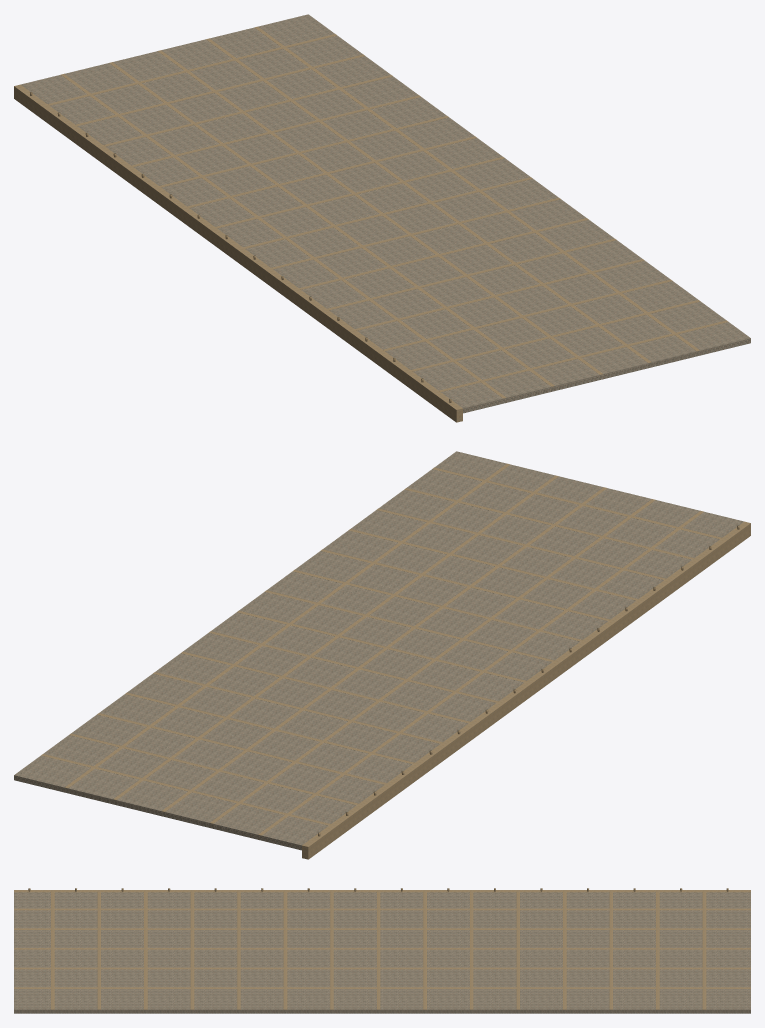
File: harbor_quay.glb
3 views of the same model, one above another, from view 1: azimuth 30°, elevation 25°; view 2: azimuth 150°, elevation 25°; view 3: azimuth 270°, elevation 25° (orthographic). The views are drawn at different scales.
Parts seen in each view (by area): view 1: harbor_quay; view 2: harbor_quay; view 3: harbor_quay.
Part boxes in pixels (left/top/right/bottom): harbor_quay: left=14, top=14, right=750, bottom=422; harbor_quay: left=14, top=451, right=750, bottom=859; harbor_quay: left=14, top=888, right=750, bottom=1013.
Size of the model in its own units: 73 by 3.7 by 190.
Materials: 3 (3 with a texture image).
